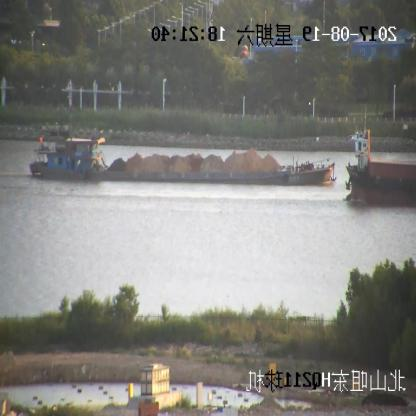Container Ship: (343, 129, 416, 208)
